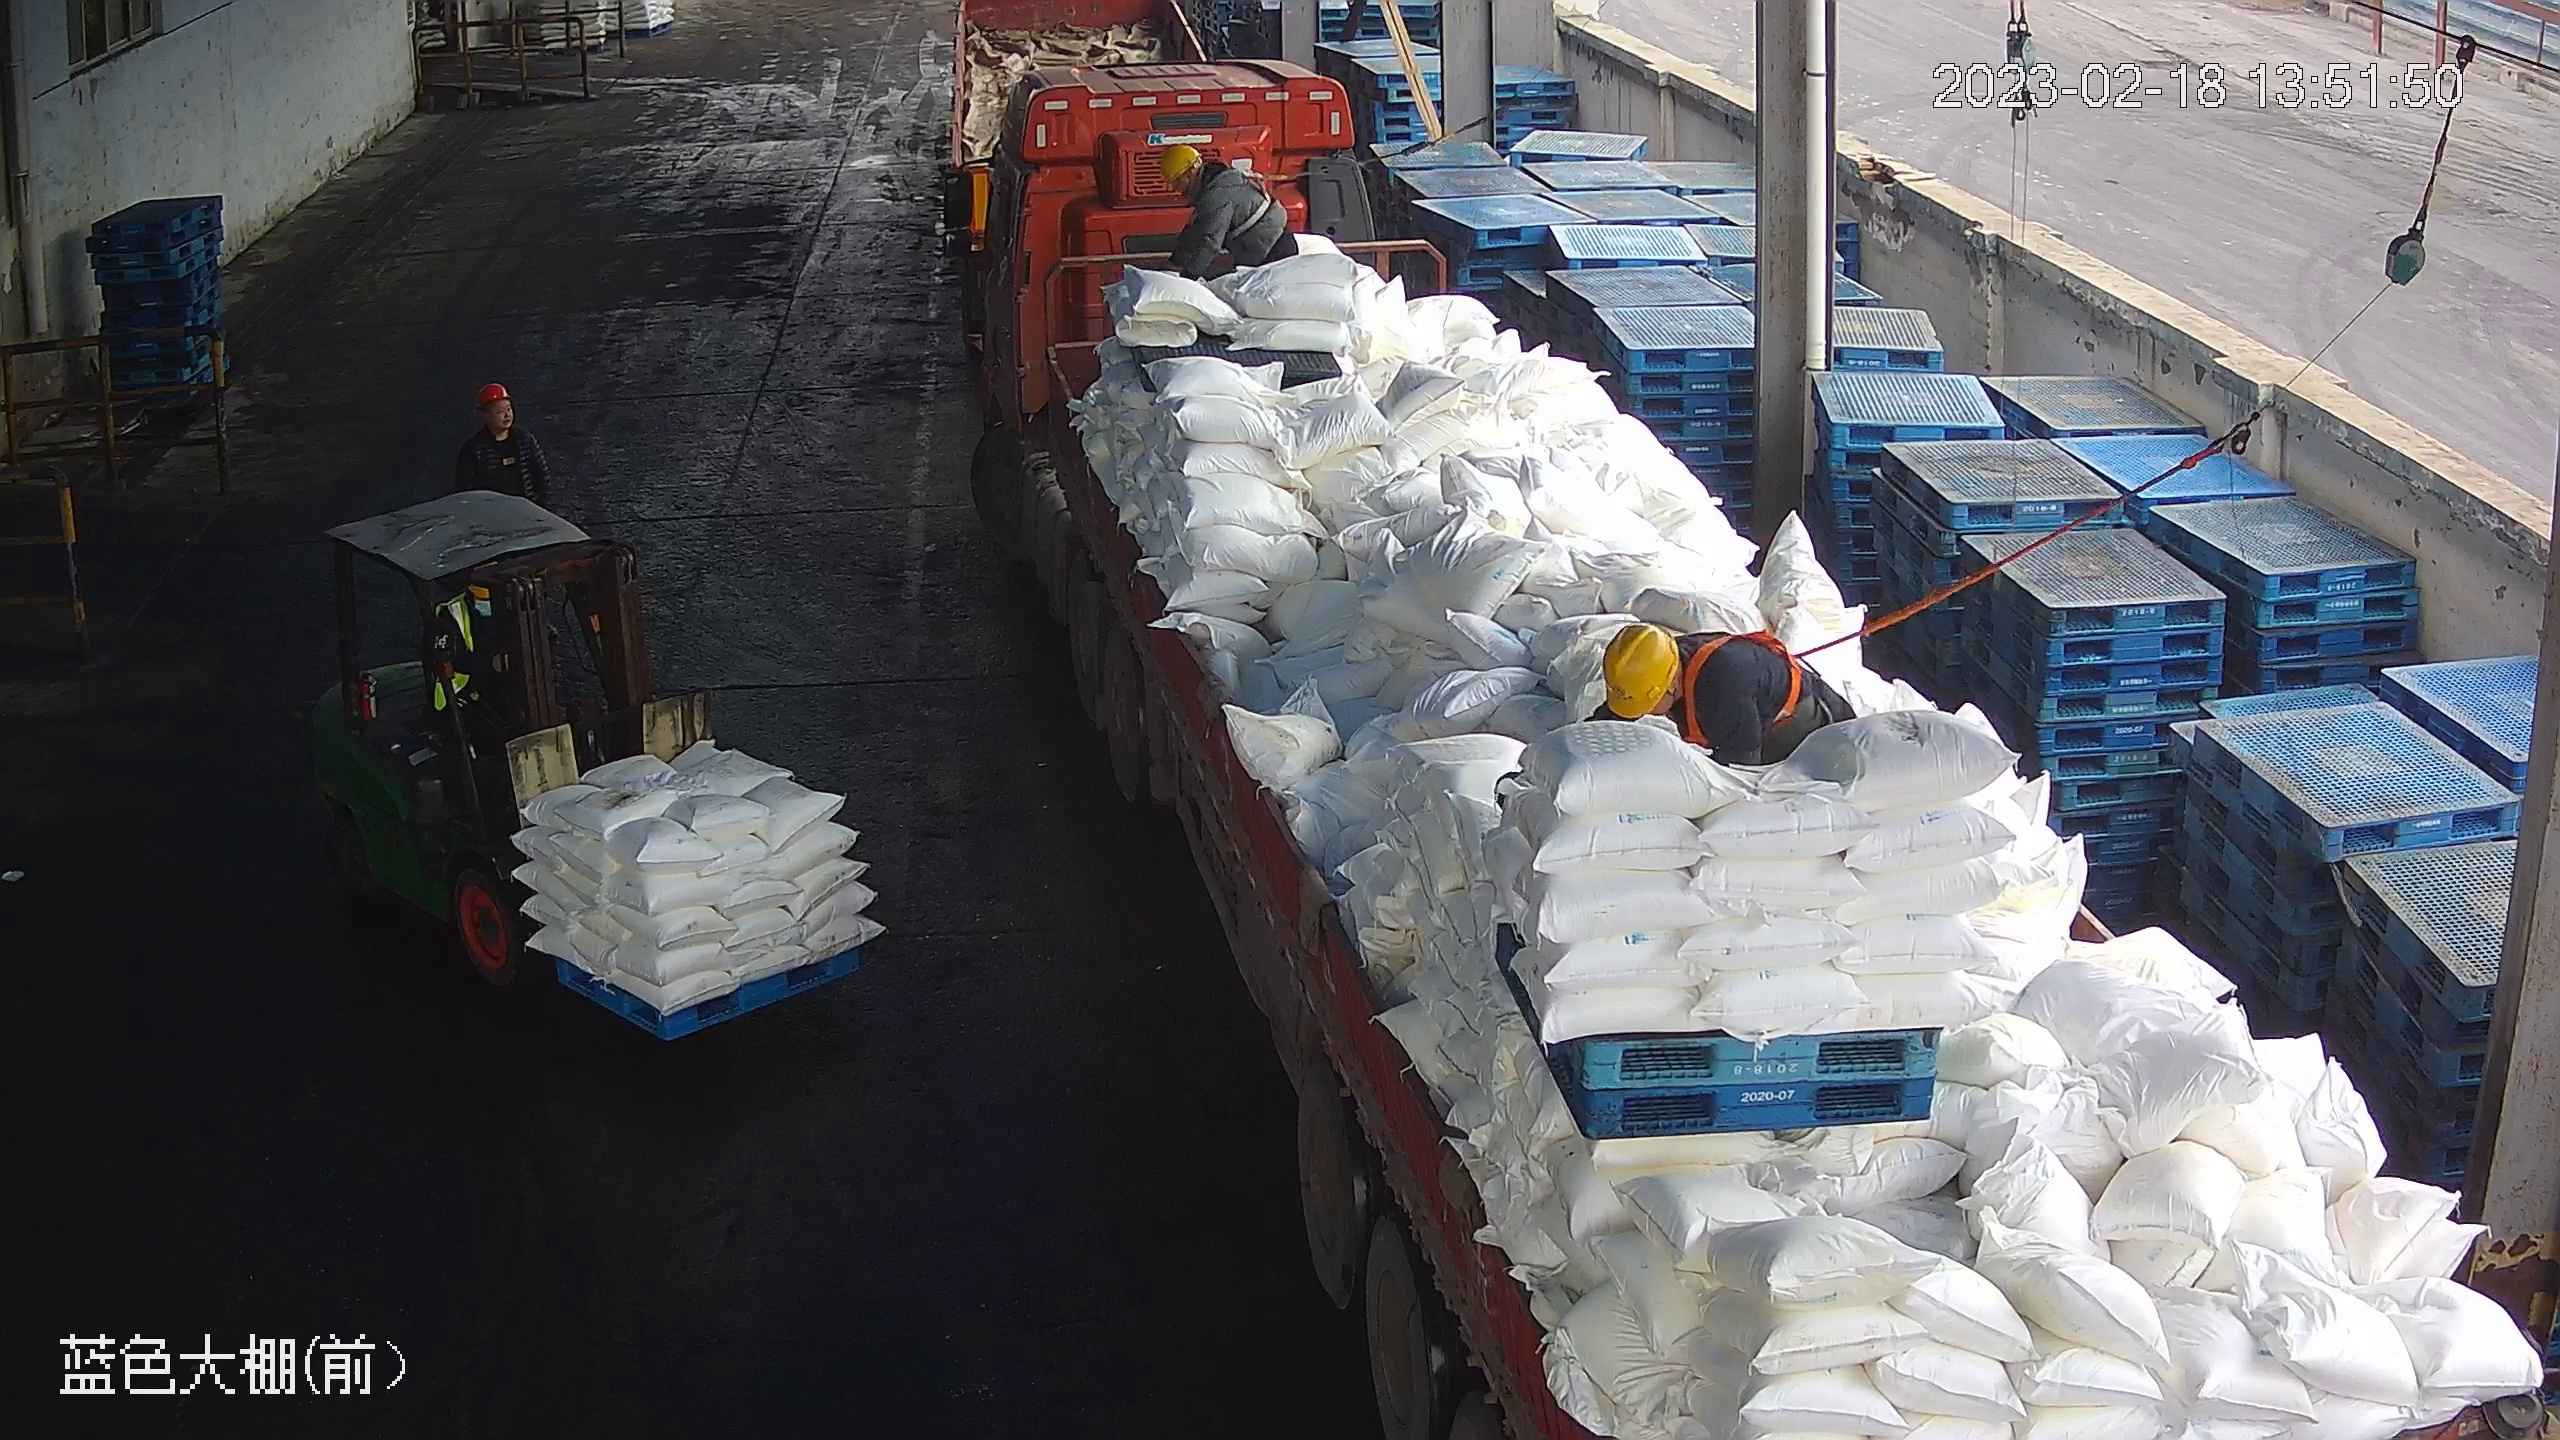belt: (1685, 625, 1804, 754), (1215, 161, 1283, 238)
head: (1593, 620, 1810, 738), (1165, 139, 1258, 250), (455, 382, 549, 477)
helmet: (1603, 623, 1683, 725), (1165, 142, 1203, 181), (474, 383, 510, 407)
truck: (939, 57, 2560, 1440)
